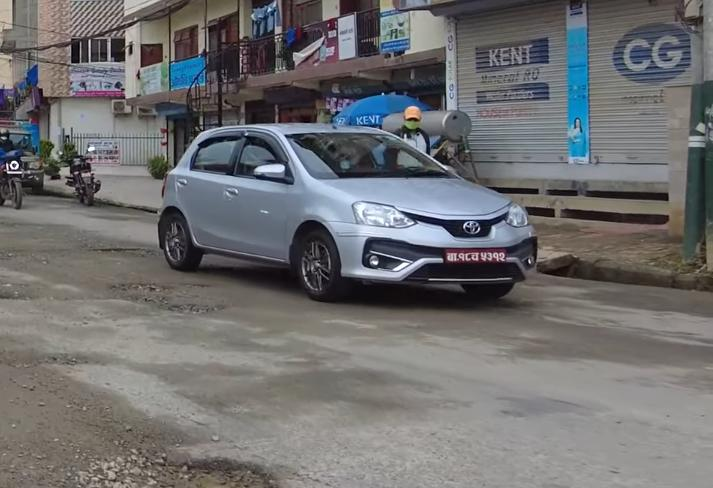bike: (59, 143, 106, 209), (0, 148, 28, 214)
car: (154, 109, 545, 311)
